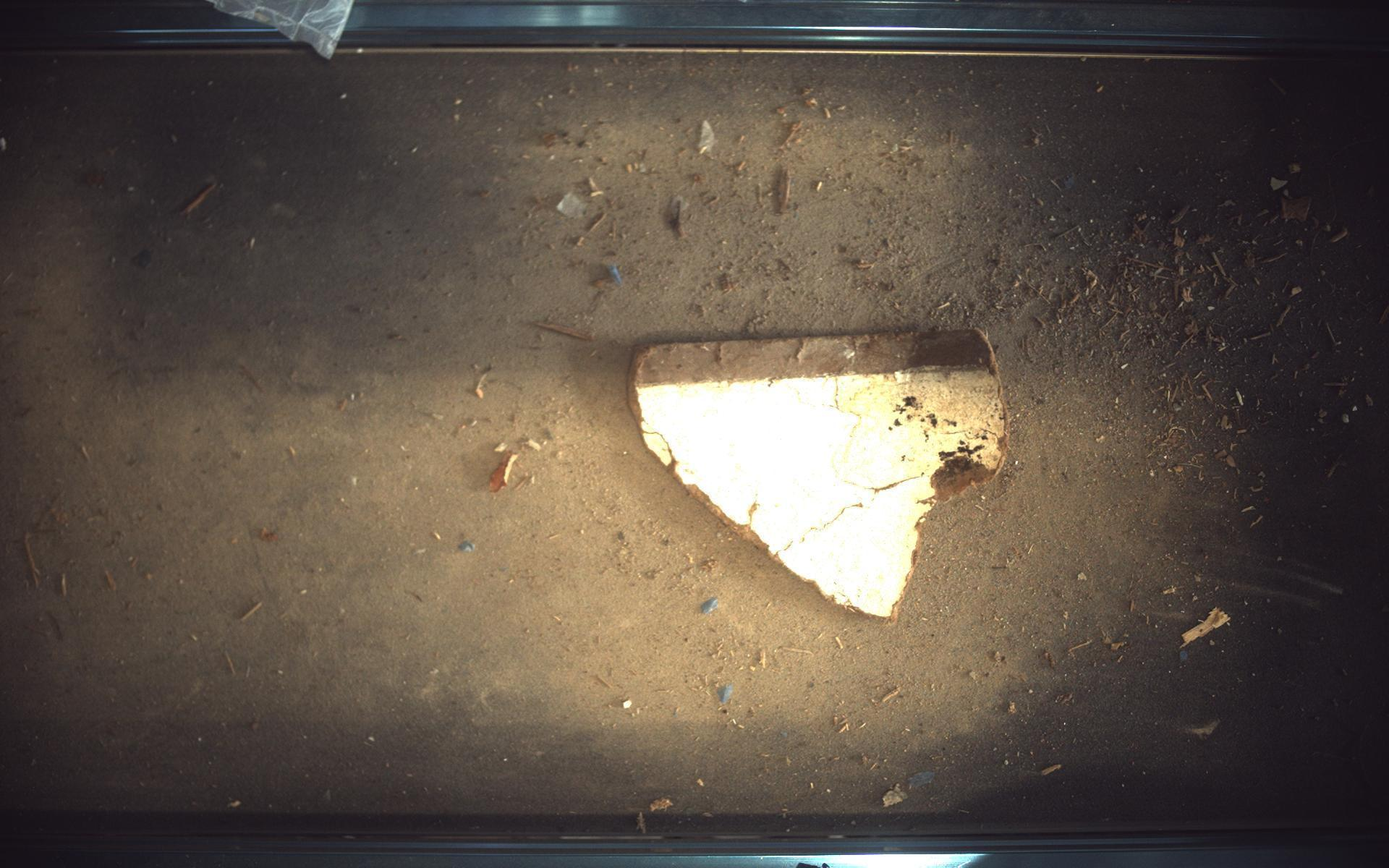wood: (631, 330, 1009, 618)
